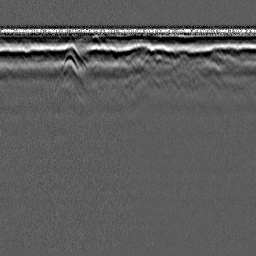cavity: (118, 55, 137, 71)
